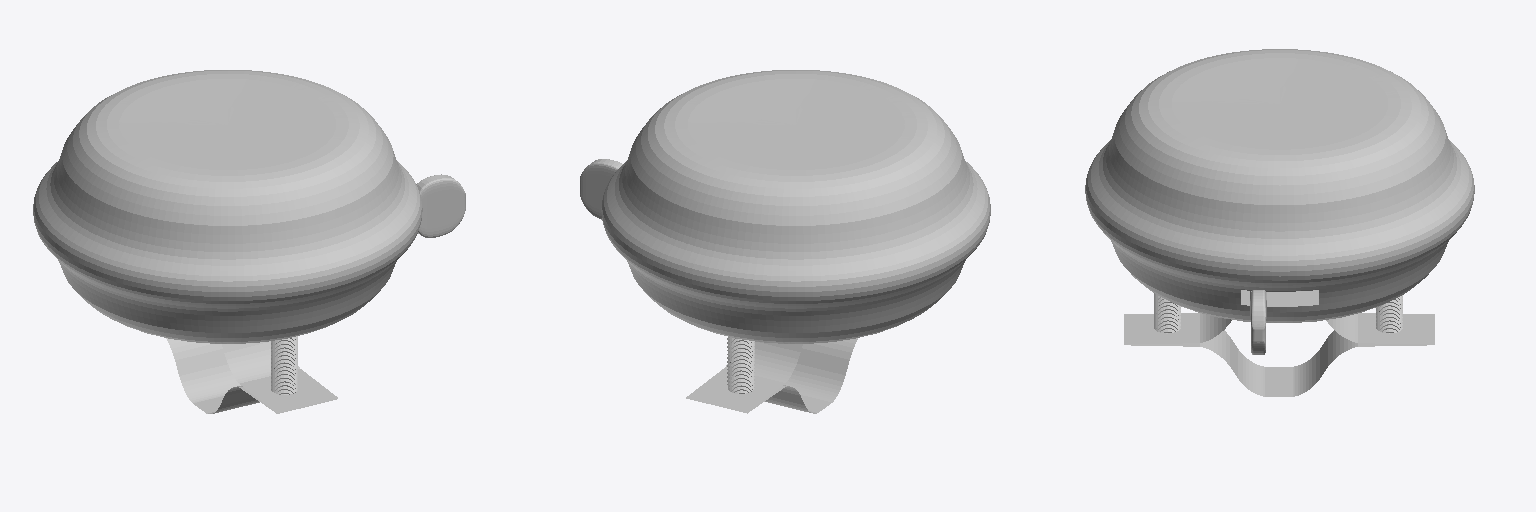
The model's file is BIKERING.obj.
3 renders of one model, left to right at view 1: azimuth 30°, elevation 25°; view 2: azimuth 150°, elevation 25°; view 3: azimuth 270°, elevation 25°, orthographic.
Visible parts, largest first — view 1: Cube_1_1; view 2: Cube_1_1; view 3: Cube_1_1.
Boxes of the visible parts, x1=… form: Cube_1_1: x1=33, y1=70, x2=465, y2=413; Cube_1_1: x1=580, y1=70, x2=990, y2=413; Cube_1_1: x1=1085, y1=49, x2=1474, y2=396.
Size of the model in its own units: 319 by 215 by 274.